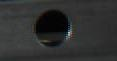holes: (32, 8, 71, 48)
